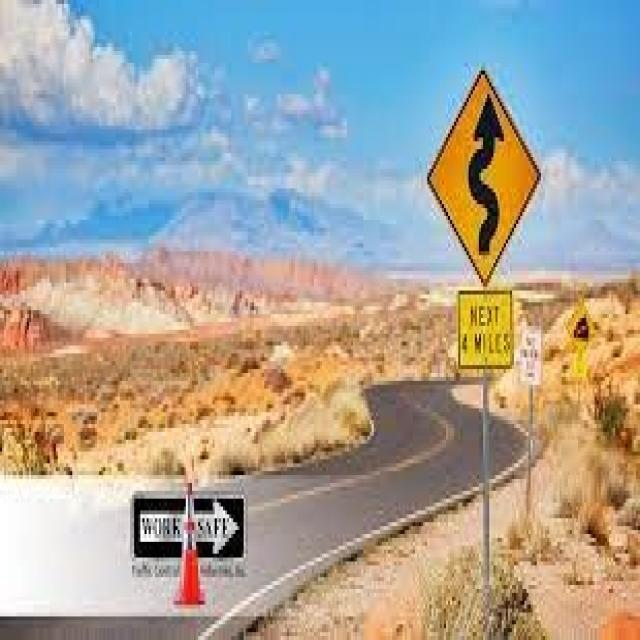left_sharp_curve: (423, 61, 541, 282)
